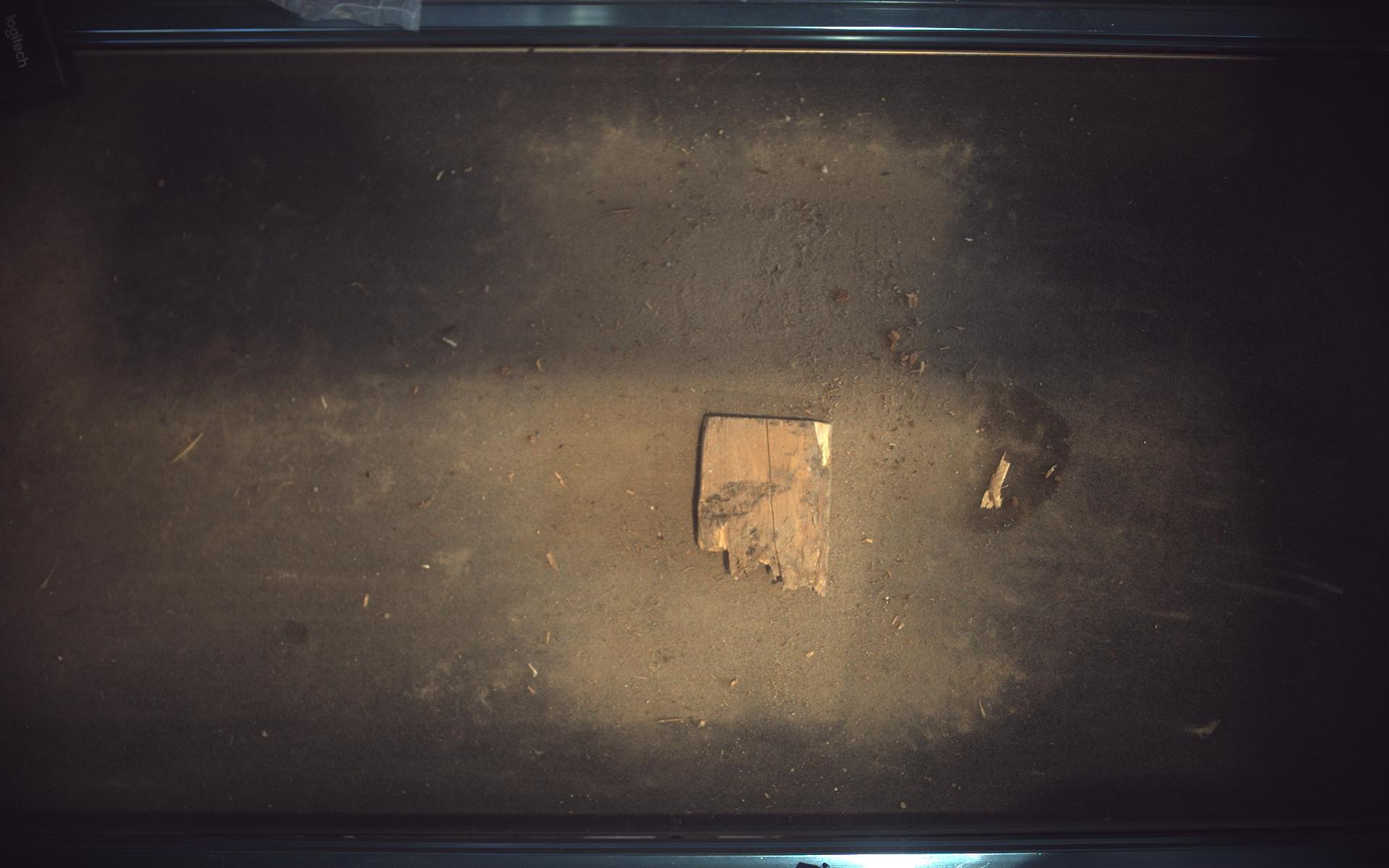wood: (698, 416, 833, 596)
